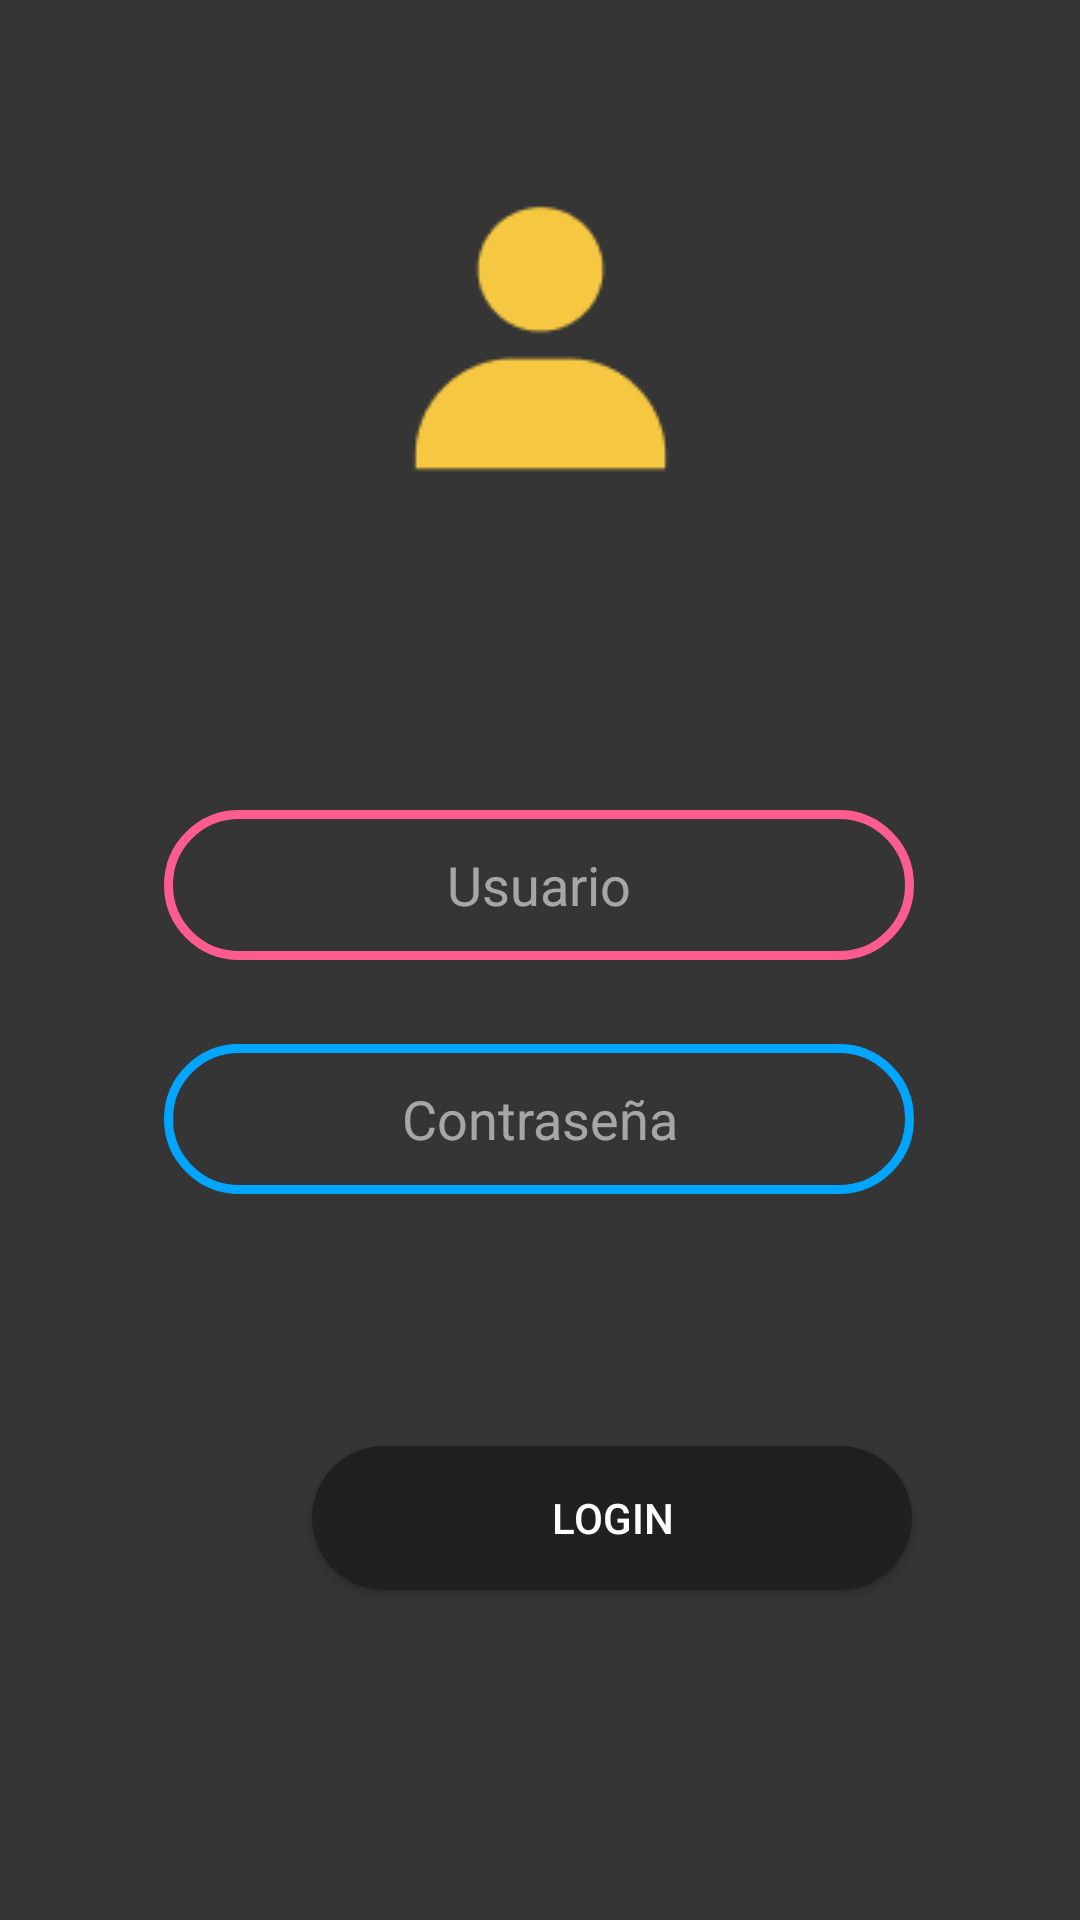

Locate icon controls on the screen. Image size 1080 × 1920, boxes as {"x1": x1, "y1": y1, "x2": x2, "y2": y2}.
user: {"x1": 414, "y1": 206, "x2": 667, "y2": 471}
